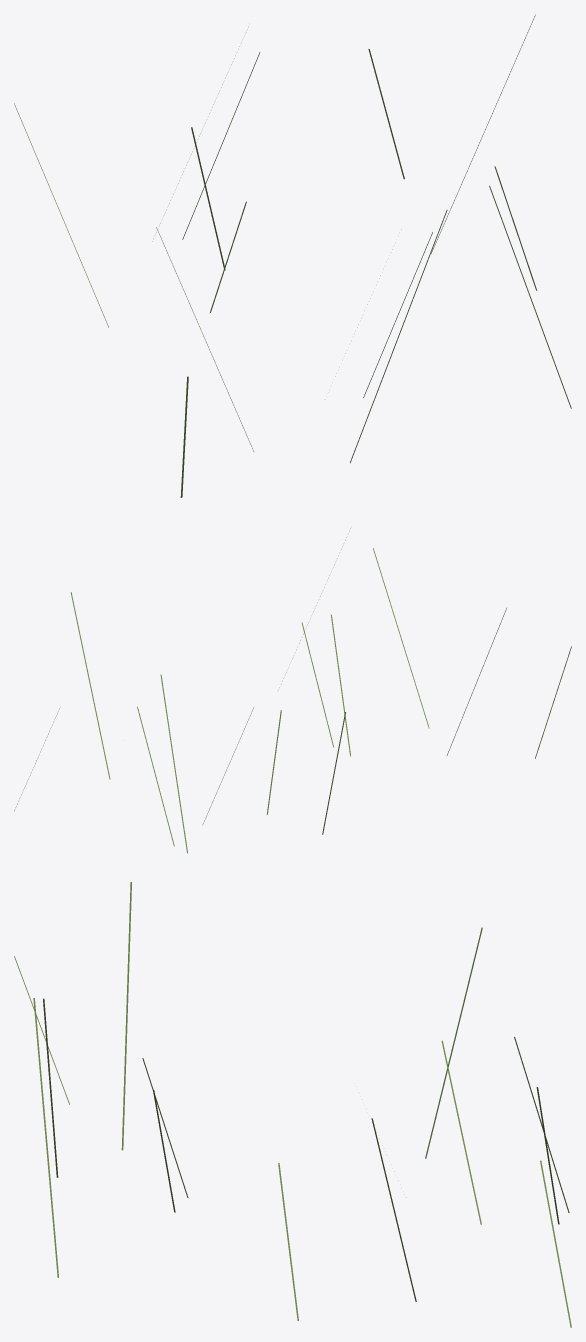
The model's file is short_grass_lod2.glb.
3 views of the same model, one above another, from view 1: azimuth 30°, elevation 25°; view 2: azimuth 150°, elevation 25°; view 3: azimuth 270°, elevation 25° (orthographic). The views are drawn at different scales.
Visible parts, largest first — view 1: Leaves; view 2: Leaves; view 3: Leaves.
Part boxes in pixels (bbox=[...]): Leaves: bbox=[14, 14, 571, 497]; Leaves: bbox=[14, 528, 571, 853]; Leaves: bbox=[14, 882, 571, 1327].
Size of the model in its own units: 0.5834 by 0.2632 by 0.5616.
